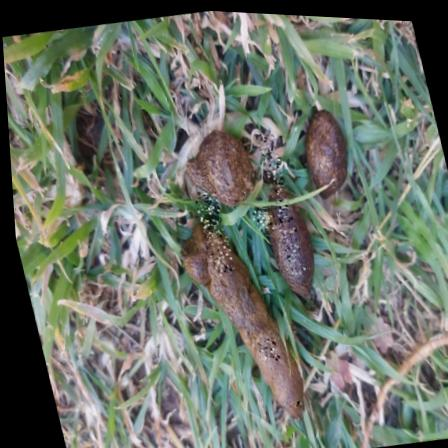dog-poop: (160, 208, 303, 427), (253, 173, 327, 309), (168, 121, 265, 209), (294, 108, 358, 204)
